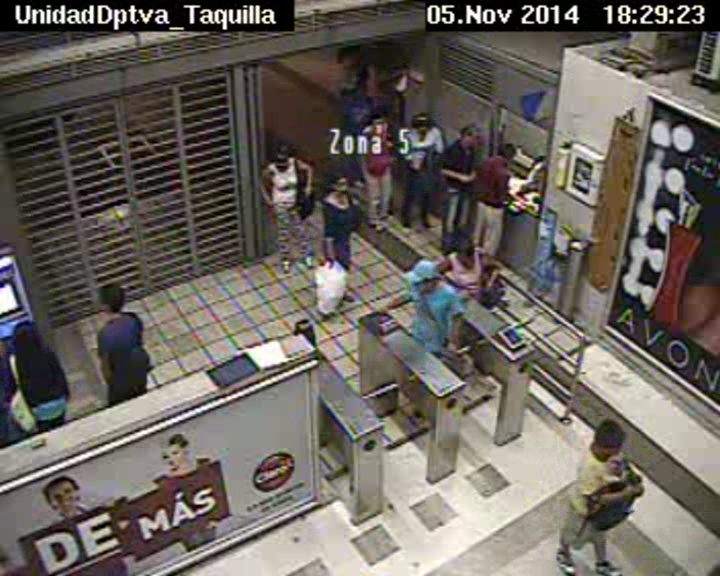person: (594, 420, 625, 458), (408, 258, 440, 293), (95, 280, 127, 315), (11, 318, 41, 350), (449, 227, 475, 254), (325, 172, 350, 199), (409, 110, 433, 134), (366, 107, 388, 131), (460, 124, 481, 149), (496, 140, 516, 164), (272, 144, 293, 166), (349, 69, 368, 89)
